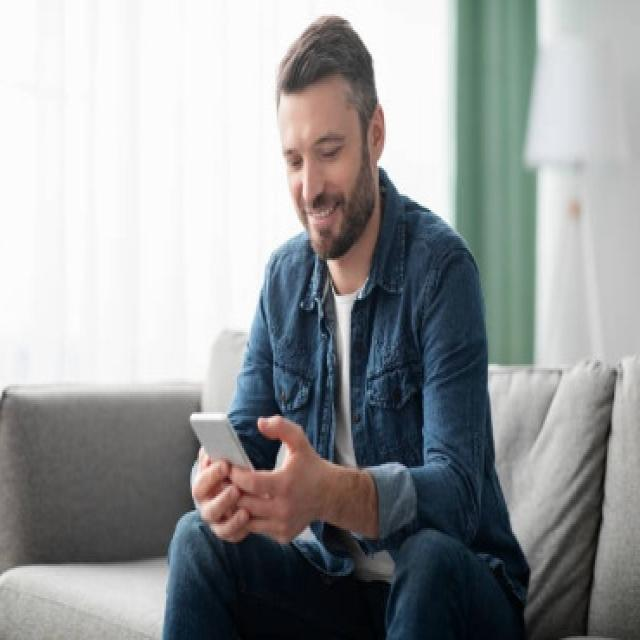adult: (138, 14, 512, 640)
